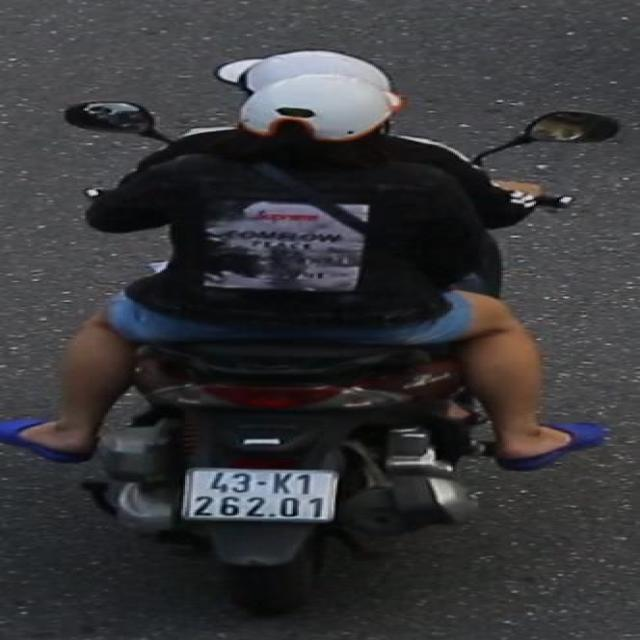LP: (177, 462, 345, 527)
helmet: (232, 75, 414, 181)
